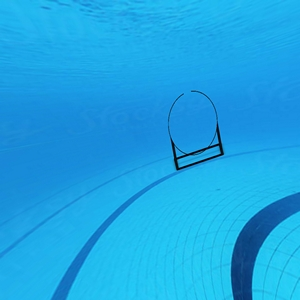circle: (166, 88, 226, 174)
